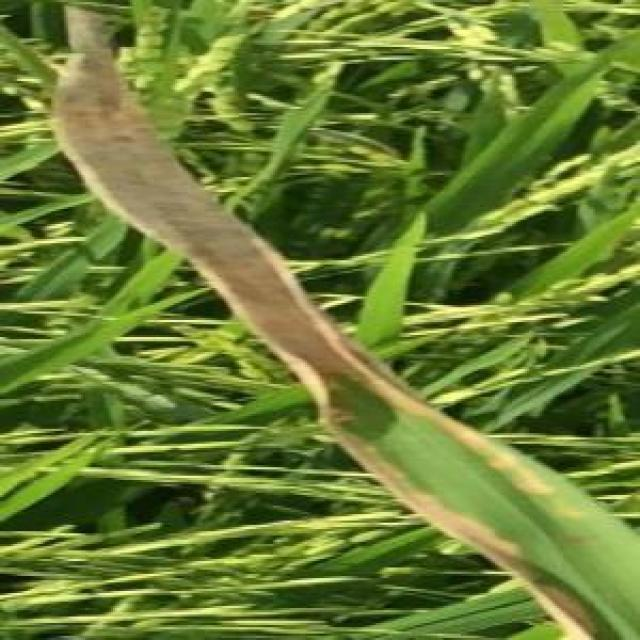Bacterial_Blight: (52, 3, 564, 495), (327, 420, 596, 640)
